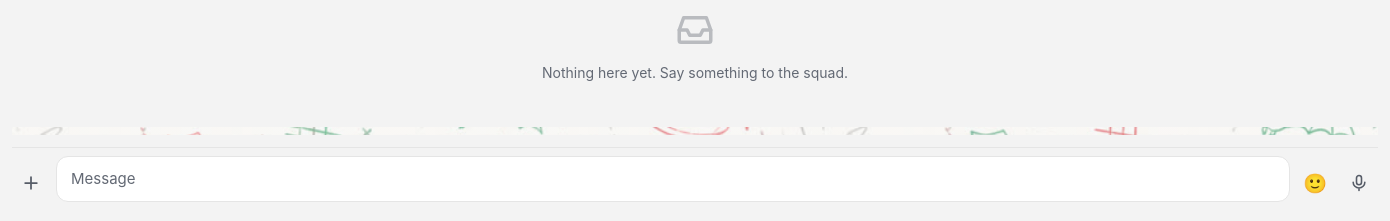
Test: channel composer bar › role channels hide Create poll in the + menu
What coordinates should you click on to do the following:
click the button with test id "attach-menu"
I would click on:
 (31, 183)
Its box is [12,164,50,202].
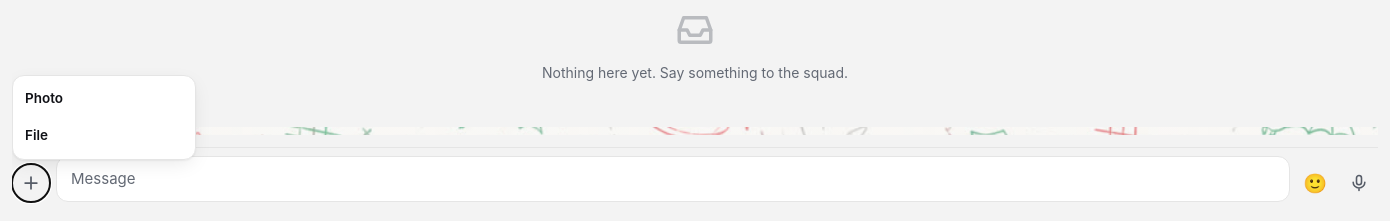
Expected: the menu item with test id "attach-menu-photo" is shown, [13,80,195,117]
